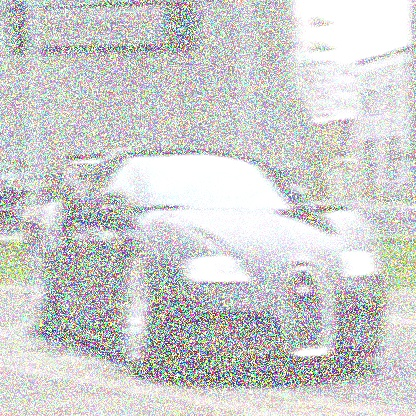Vehicle: (26, 146, 390, 379)
